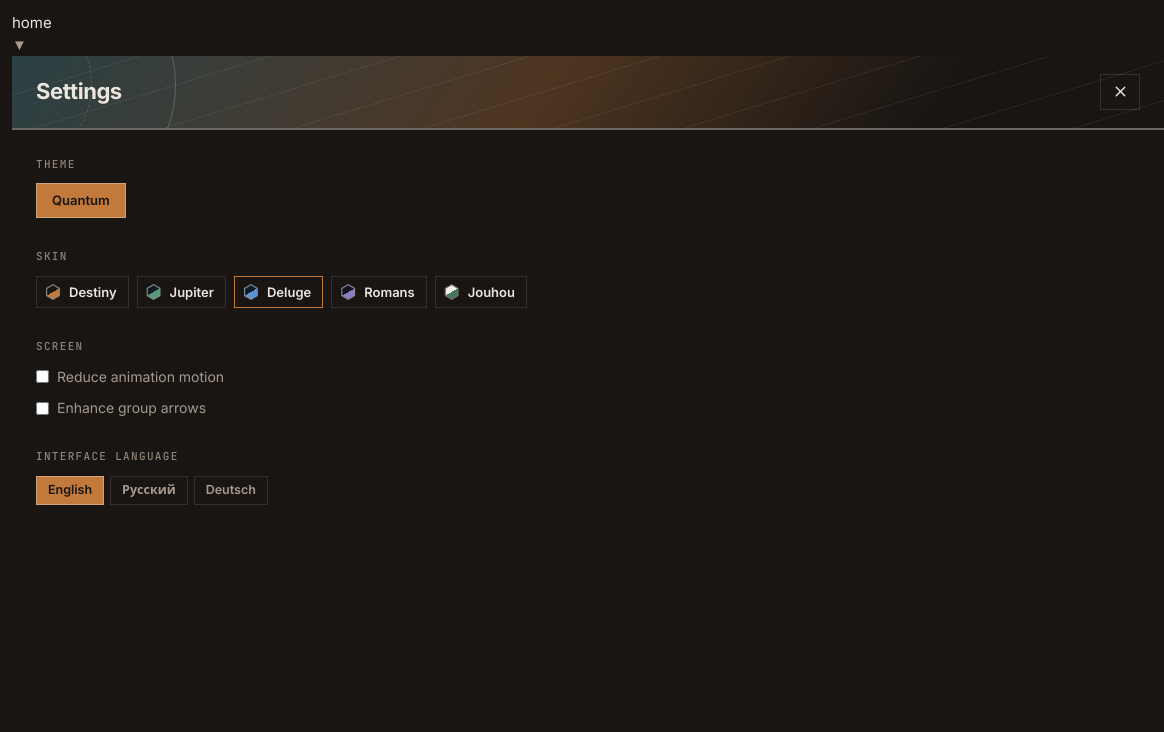
Test: SettingsScreen › switching to Русский changes Settings’ own copy at once, and persists the language
Expected: the heading "Settings" is shown, [36, 80, 122, 103]
Click the button "Русский" at (149, 490), box [110, 476, 188, 505]
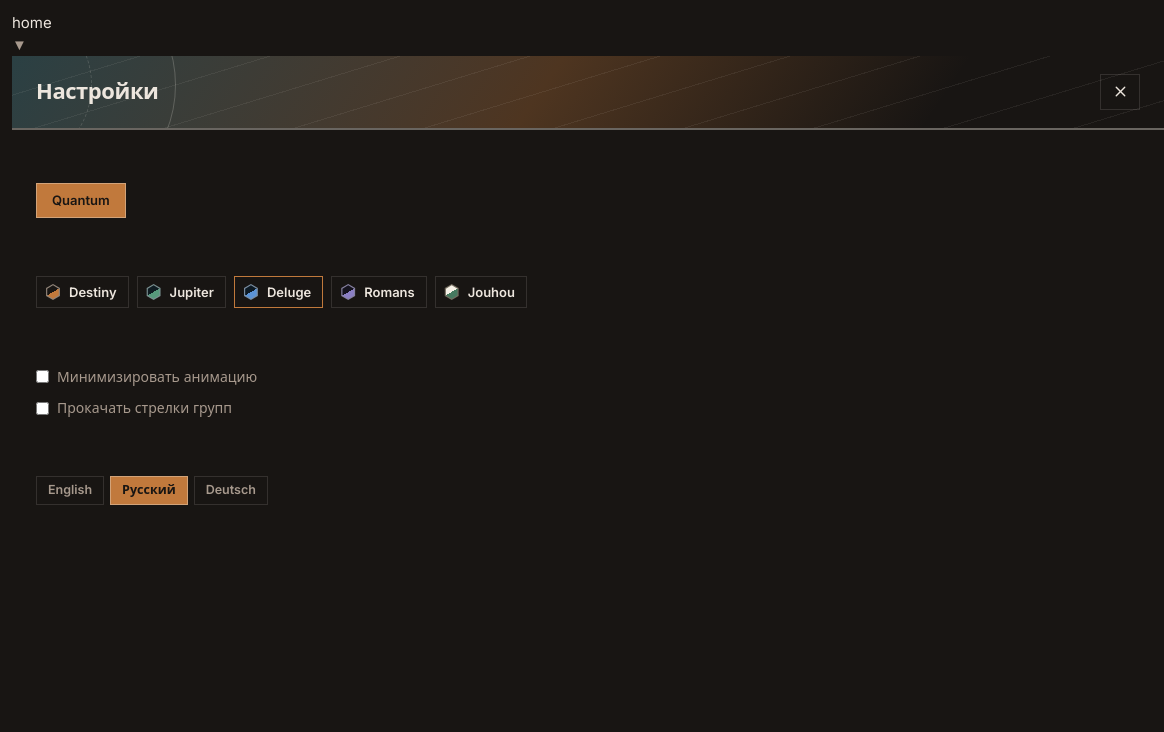
Expected: the heading "Настройки" is shown, [36, 80, 158, 103]
Expected: the heading "Settings" is gone
